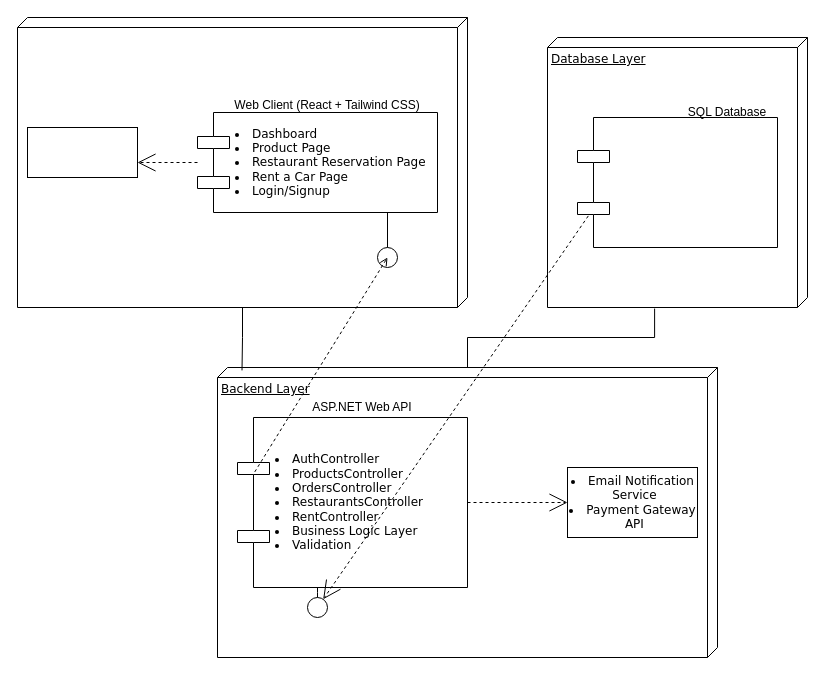
This 825x675 diagram has some shape labels left out. The shapes that lost their labels are listed below. From the top down, each one's box as (x1, y1, x2, y2) in pixels, then its label:
(16, 16, 468, 308): User Interface Layer
(576, 116, 778, 248): Clients Products Orders Reservations Rents
